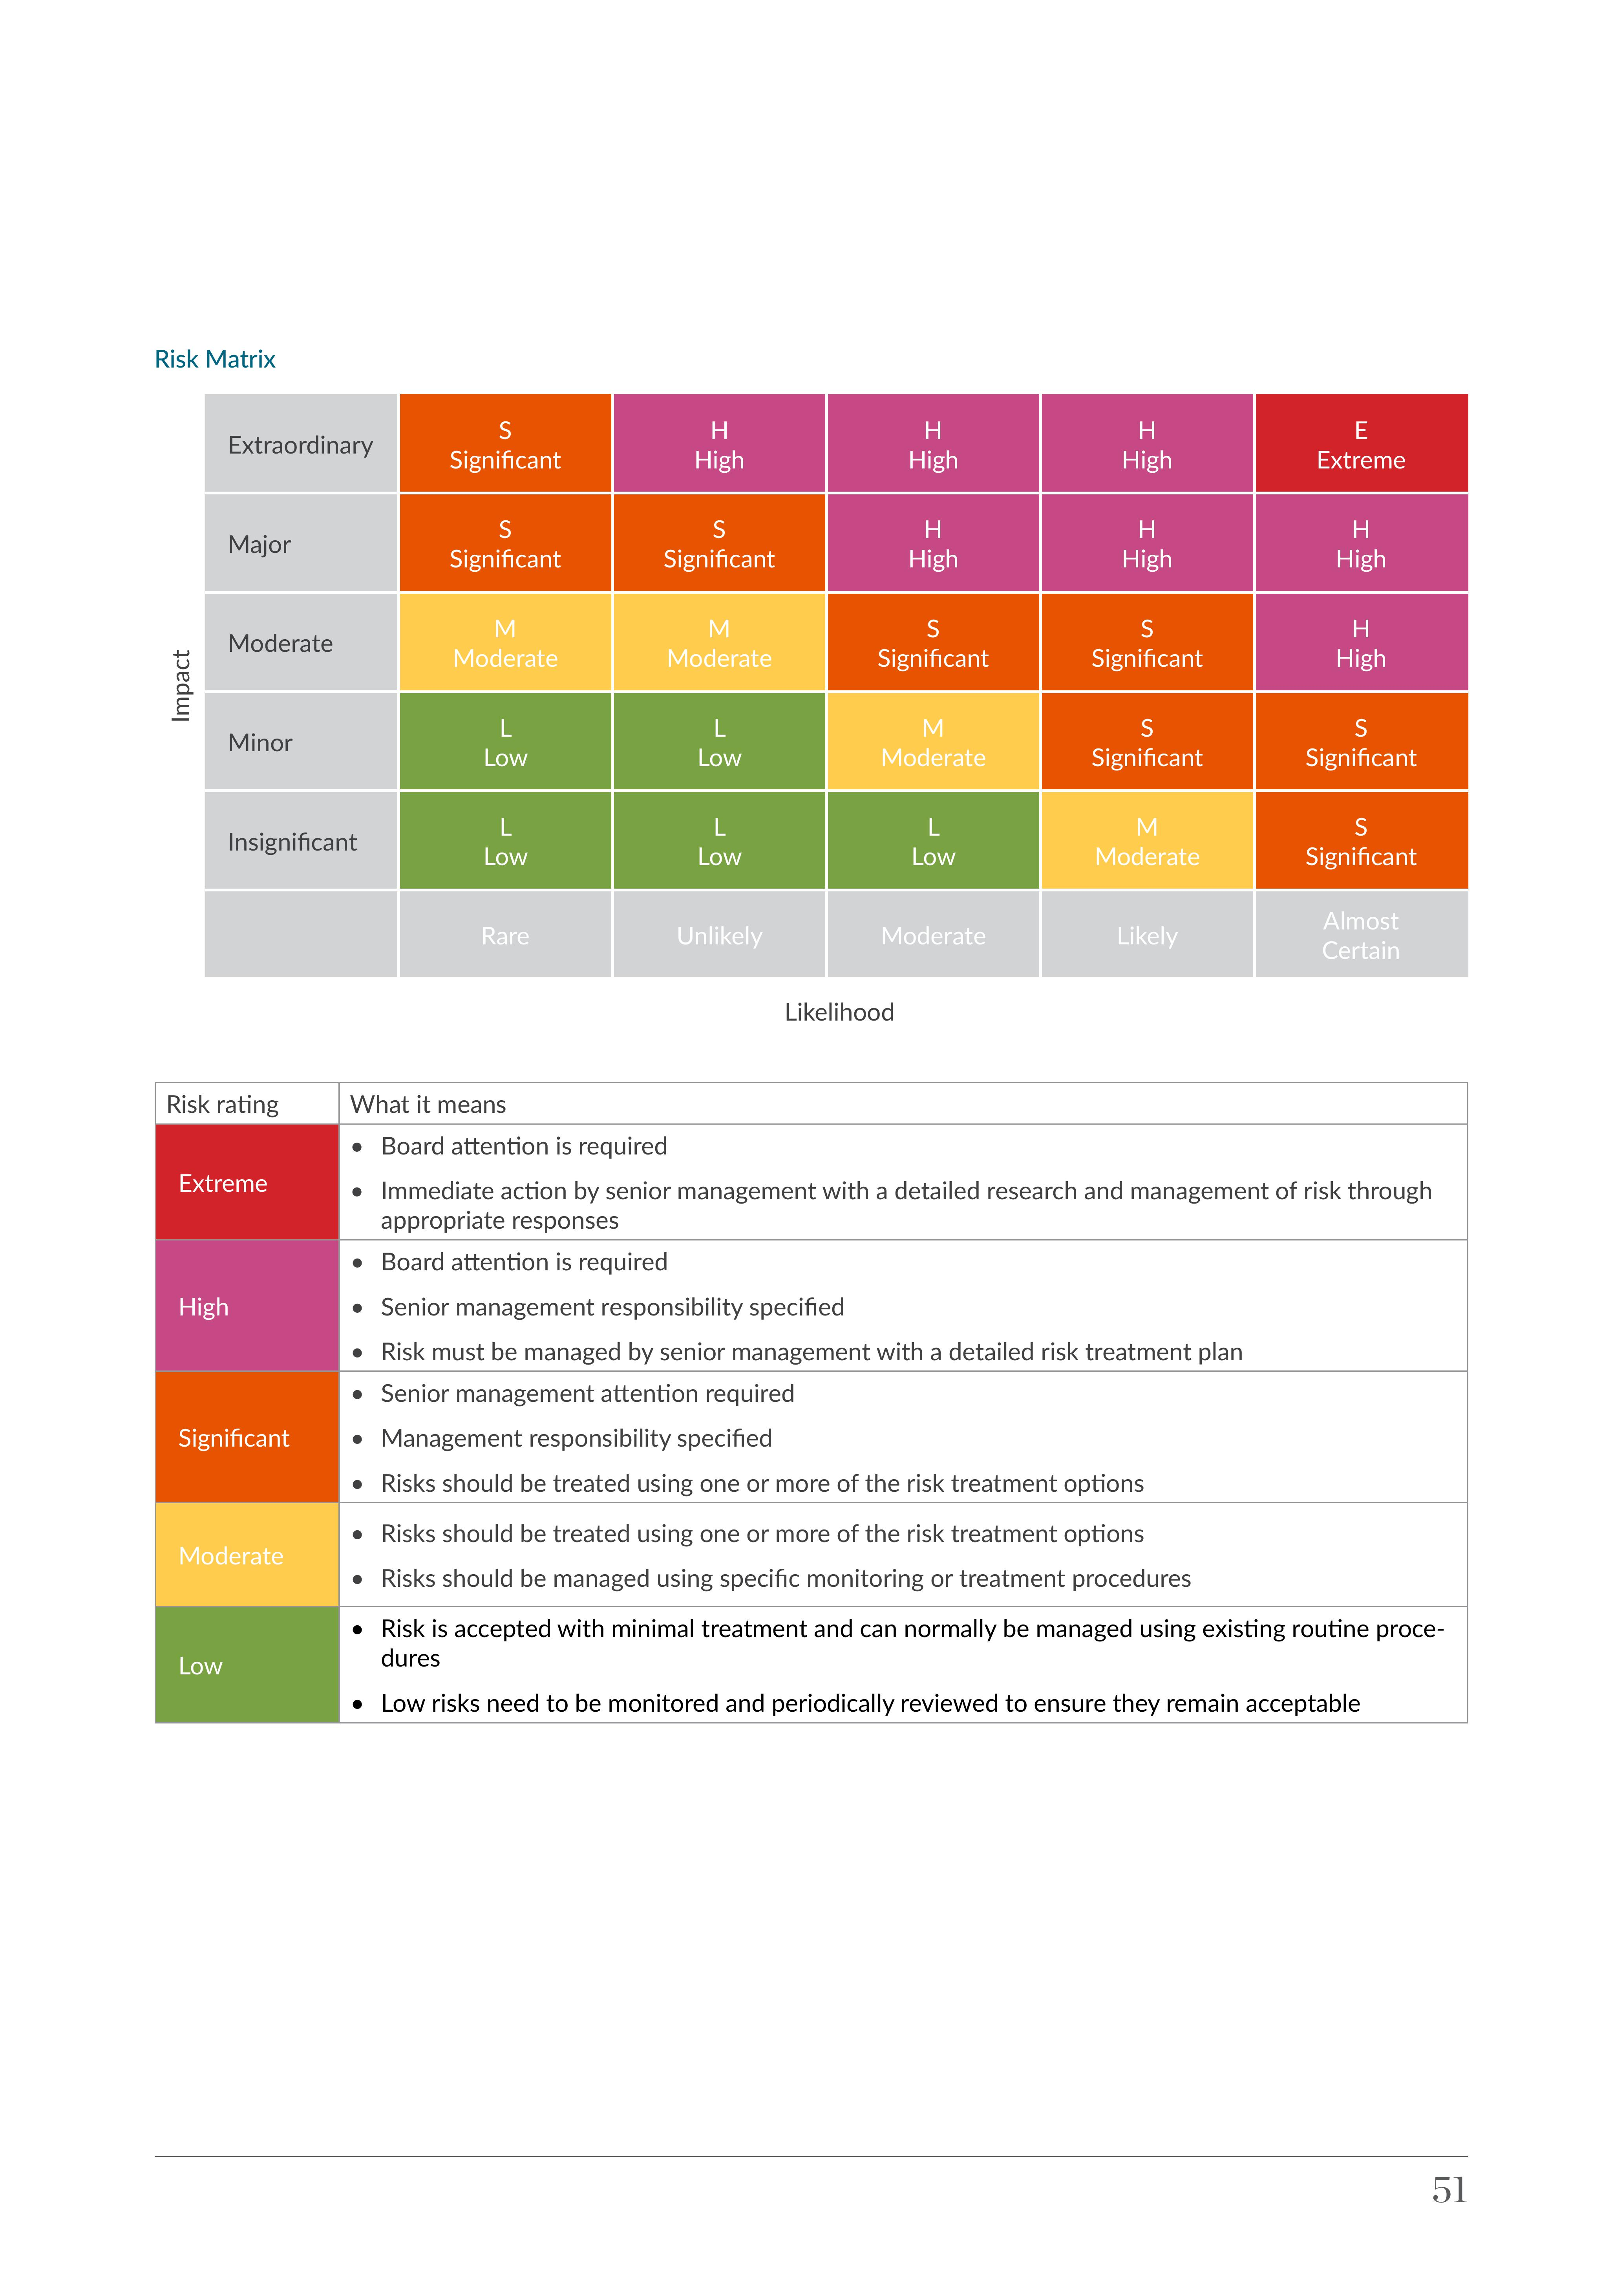table: (135, 1075, 1484, 1743)
